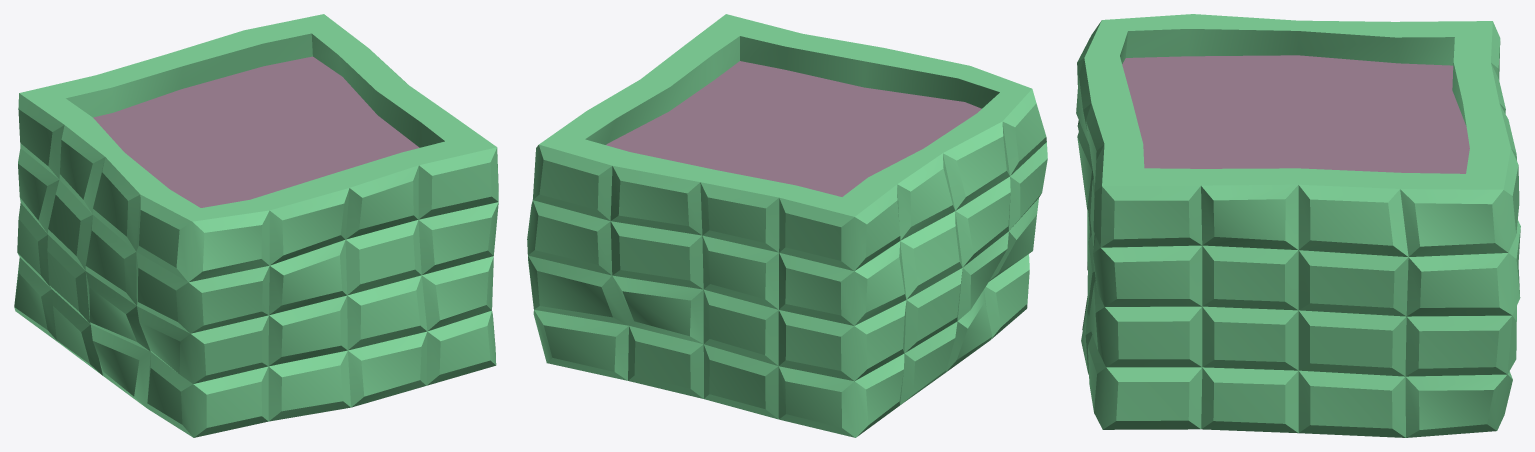
File: Brazier.fbx
The picture shows the model from 3 angles, left to right: view 1: azimuth 30°, elevation 25°; view 2: azimuth 150°, elevation 25°; view 3: azimuth 270°, elevation 25°; orthographic projection. The views are drawn at different scales.
Parts seen in each view (by area): view 1: Brazier; view 2: Brazier; view 3: Brazier.
Part boxes in pixels (box(x1,y1,x2,y2)): Brazier: box(14, 14, 498, 437); Brazier: box(527, 14, 1047, 437); Brazier: box(1076, 14, 1520, 437).
Bounding box in the file's own units: 118 × 70 × 116.
